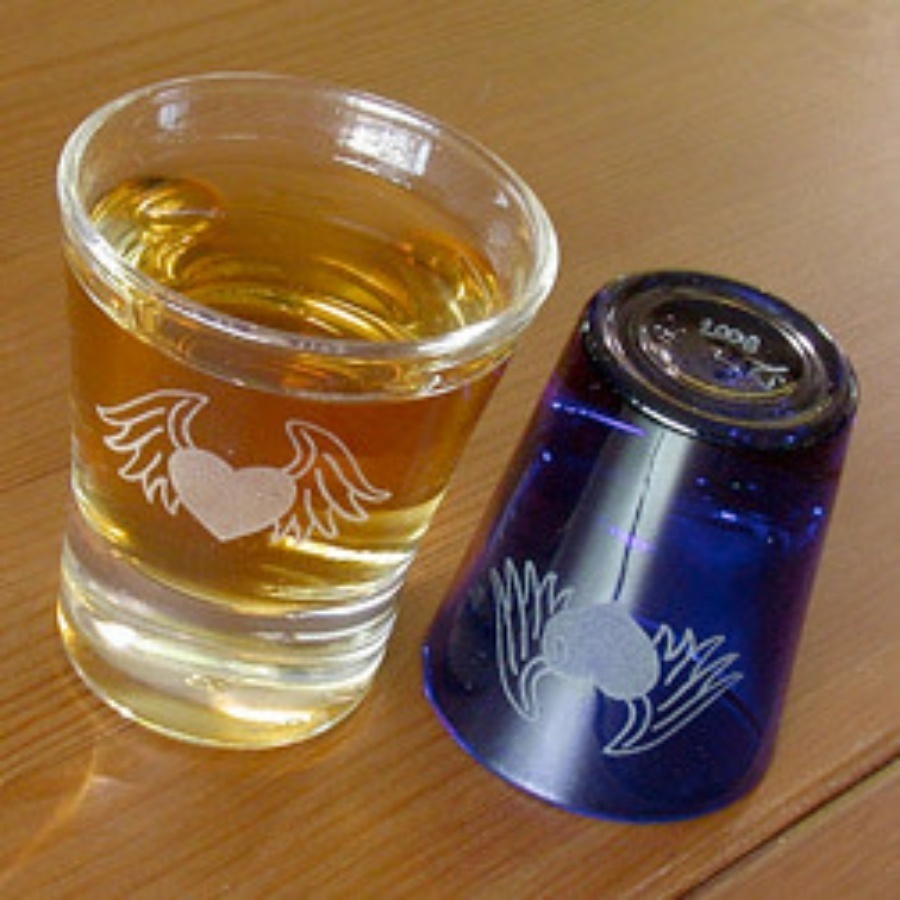whiskey: (12, 91, 537, 773), (413, 304, 874, 820)
